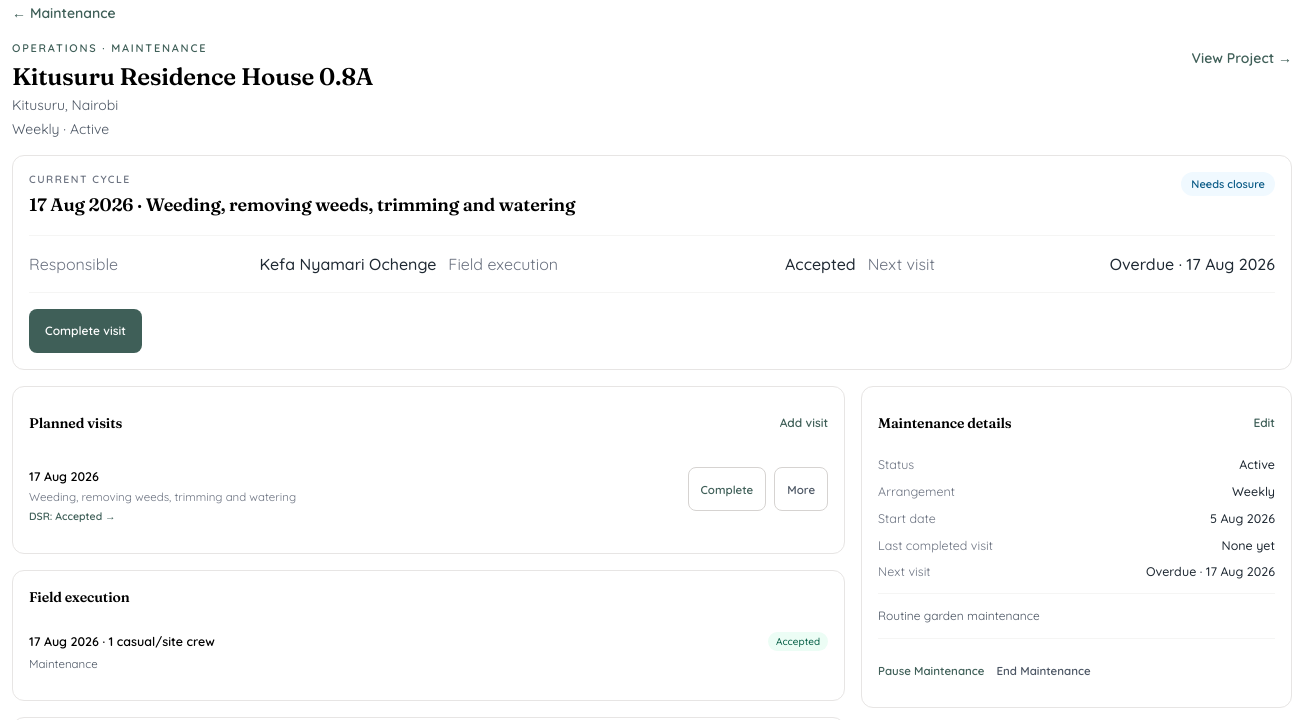
Test: Maintenance detail scheduling and RBAC › allows a new explicit date only after operator chooses another visit
This screenshot has width=1304, height=720.
What coordinates should you click on to do the following:
click the button "Complete visit"
I would click on:
 (85, 331)
Its box is x1=29 y1=309 x2=142 y2=353.
(page scrolled)
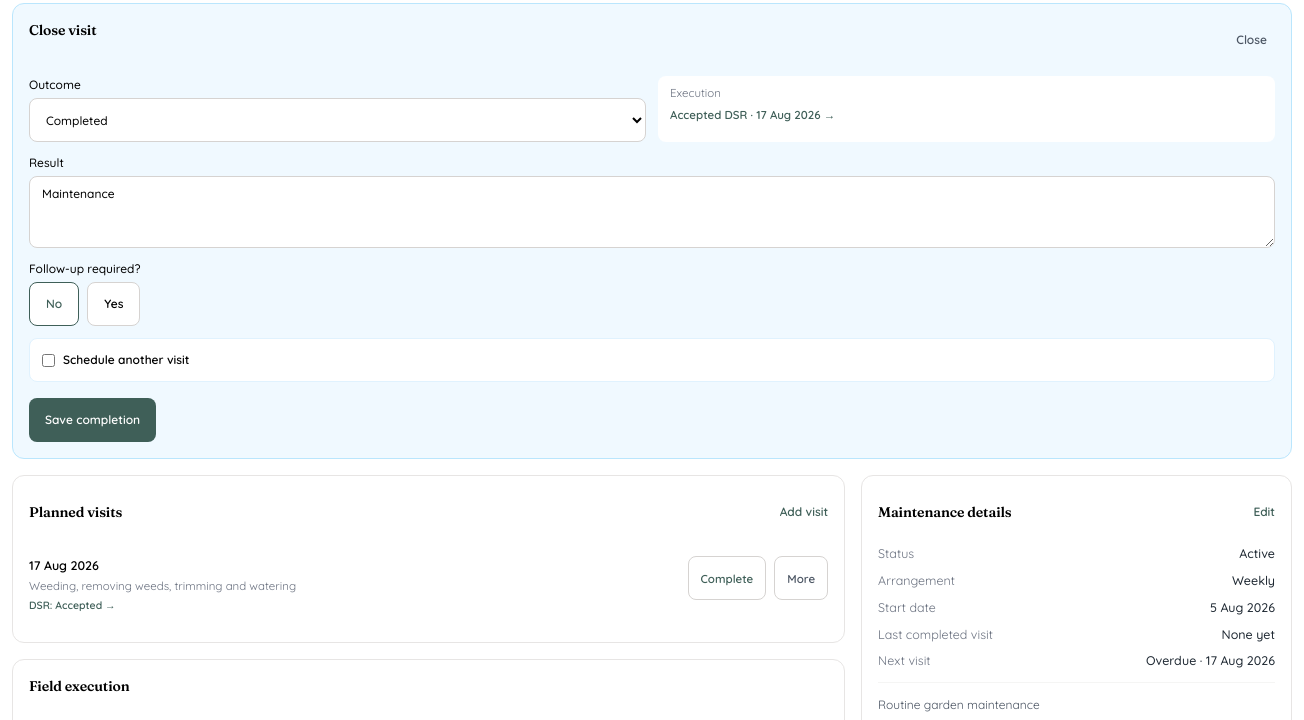
What coordinates should you click on to do the following:
click the checkbox labelled "Schedule another visit"
I would click on:
 (48, 360)
Its box is x1=42 y1=354 x2=55 y2=367.
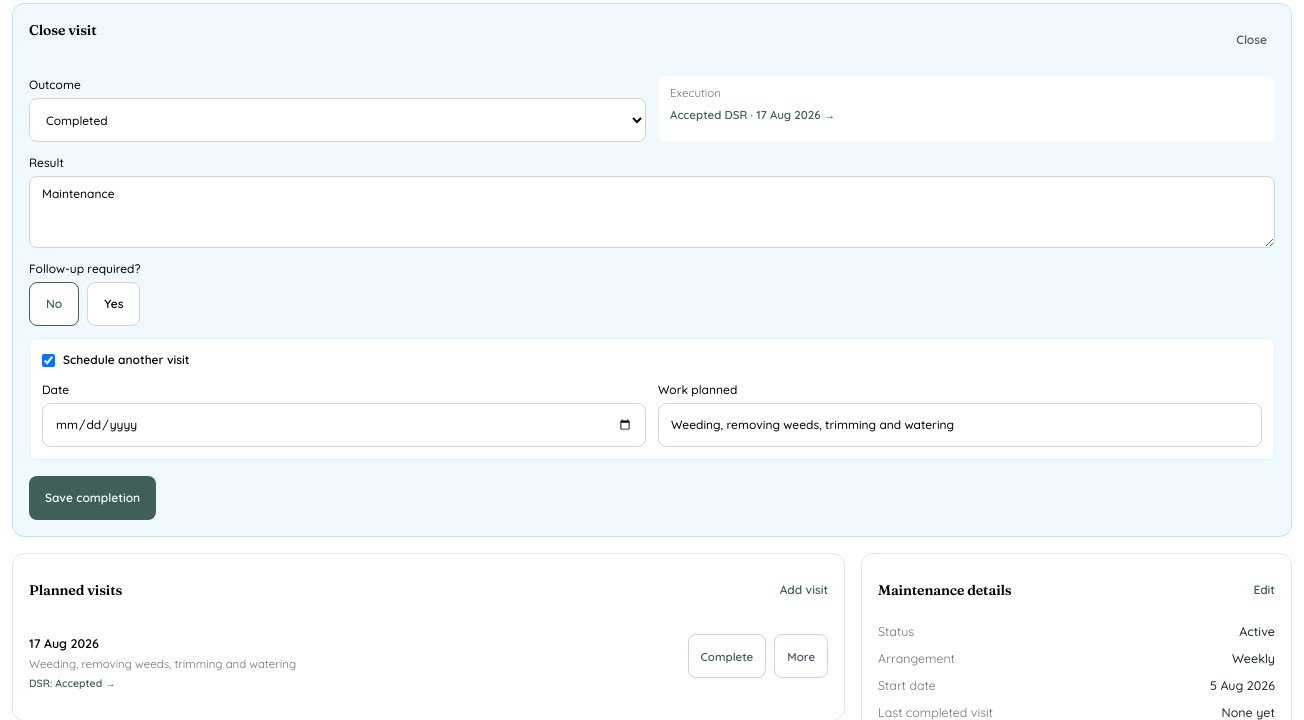
Expected: the date field labelled "Date" is shown, x1=42 y1=403 x2=646 y2=447
Expected: the field labelled "Work planned" is shown, x1=658 y1=403 x2=1262 y2=447
